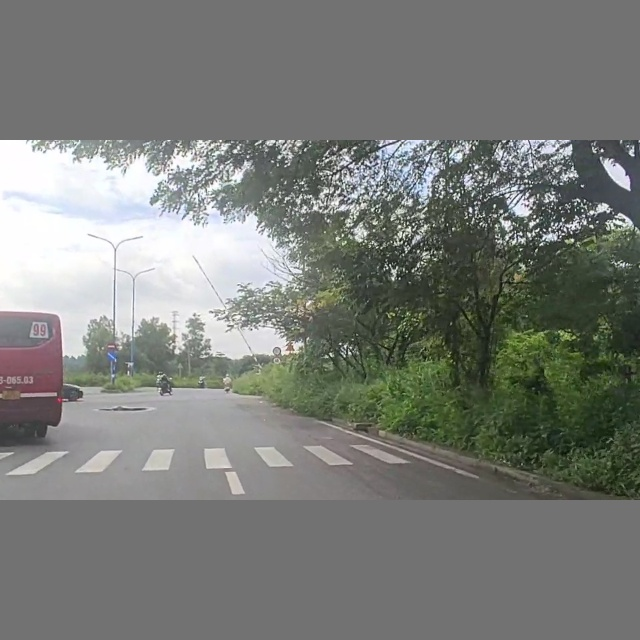P.102: (107, 343, 118, 350)
P.127*40: (274, 356, 281, 364)
R.302a: (106, 350, 118, 360)
